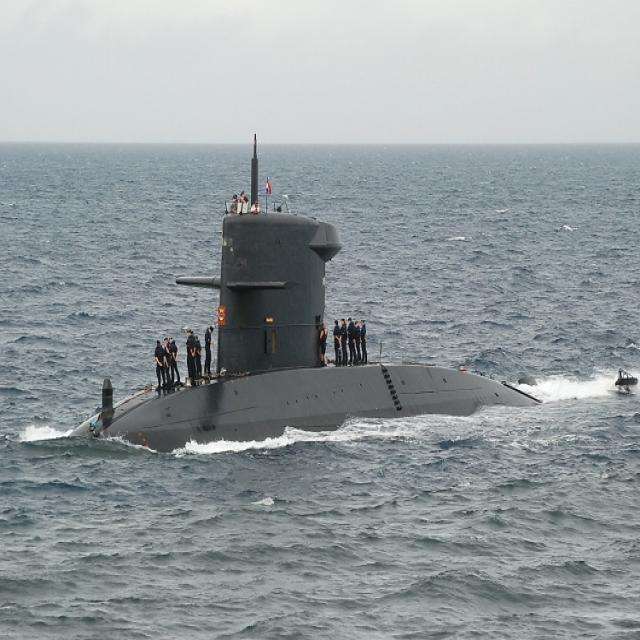submarine: (67, 137, 545, 446)
